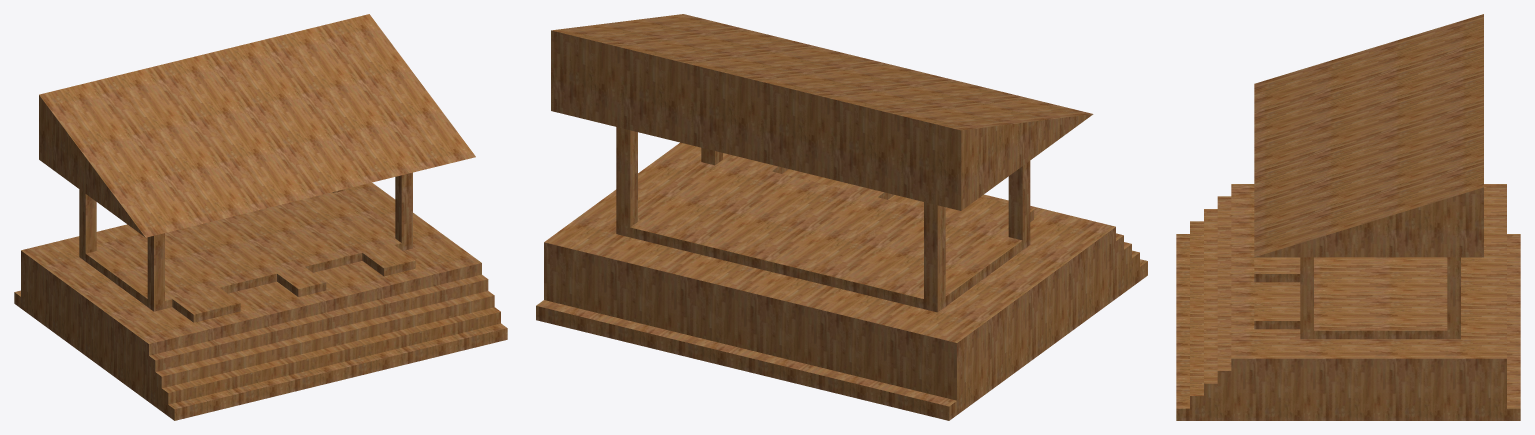
File: Cabin.fbx
3 views of the same model, side by side, from view 1: azimuth 30°, elevation 25°; view 2: azimuth 150°, elevation 25°; view 3: azimuth 270°, elevation 25° (orthographic). The views are drawn at different scales.
Visible parts, largest first — view 1: Cabin; view 2: Cabin; view 3: Cabin.
Part boxes in pixels (x1=…): Cabin: x1=14, y1=14, x2=507, y2=420; Cabin: x1=536, y1=14, x2=1147, y2=420; Cabin: x1=1176, y1=14, x2=1520, y2=420.
Size of the model in its own units: 914 by 568 by 750.
